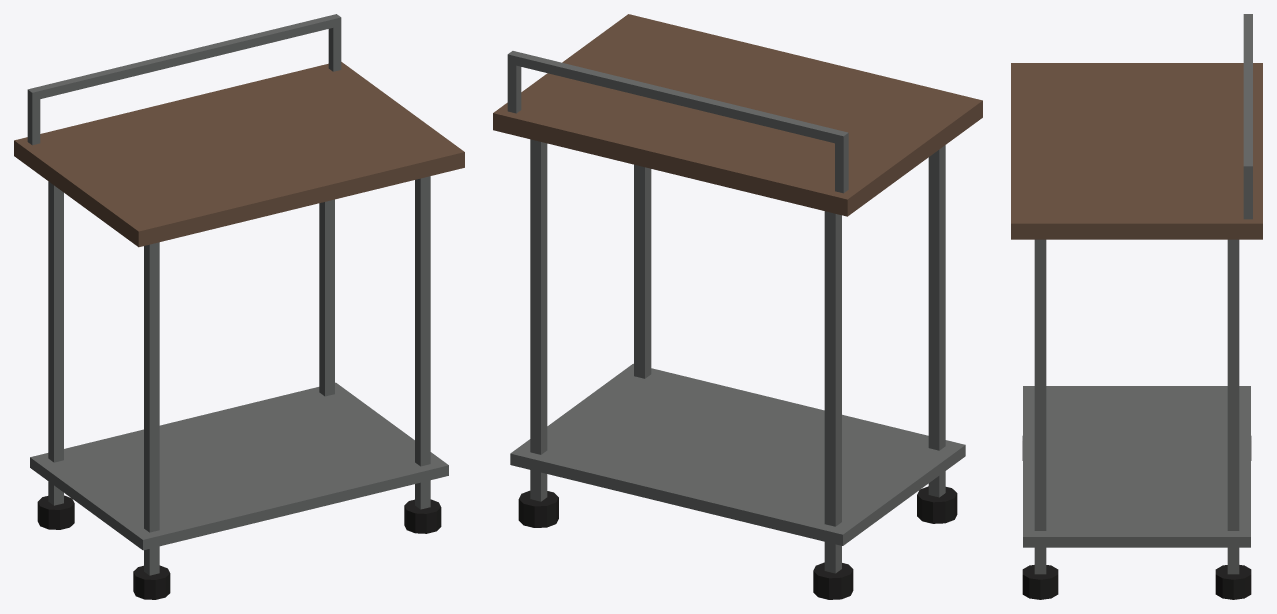
The model's file is main-record-trolley.glb.
The picture shows the model from 3 angles, left to right: view 1: azimuth 30°, elevation 25°; view 2: azimuth 150°, elevation 25°; view 3: azimuth 270°, elevation 25°; orthographic projection. The views are drawn at different scales.
Visible parts, largest first — view 1: metal, wood, rubber; view 2: metal, wood, rubber; view 3: metal, wood, rubber.
Boxes of the visible parts, x1,y1,x2,y2 form: metal: (27,14,448,575); wood: (14,62,464,247); rubber: (37,495,441,599); metal: (507,51,965,573); wood: (493,14,982,216); rubber: (518,486,957,599); metal: (1023,14,1252,574); wood: (1011,63,1262,239); rubber: (1022,436,1251,599).
Size of the model in its own units: 0.65 by 0.82 by 0.43.
